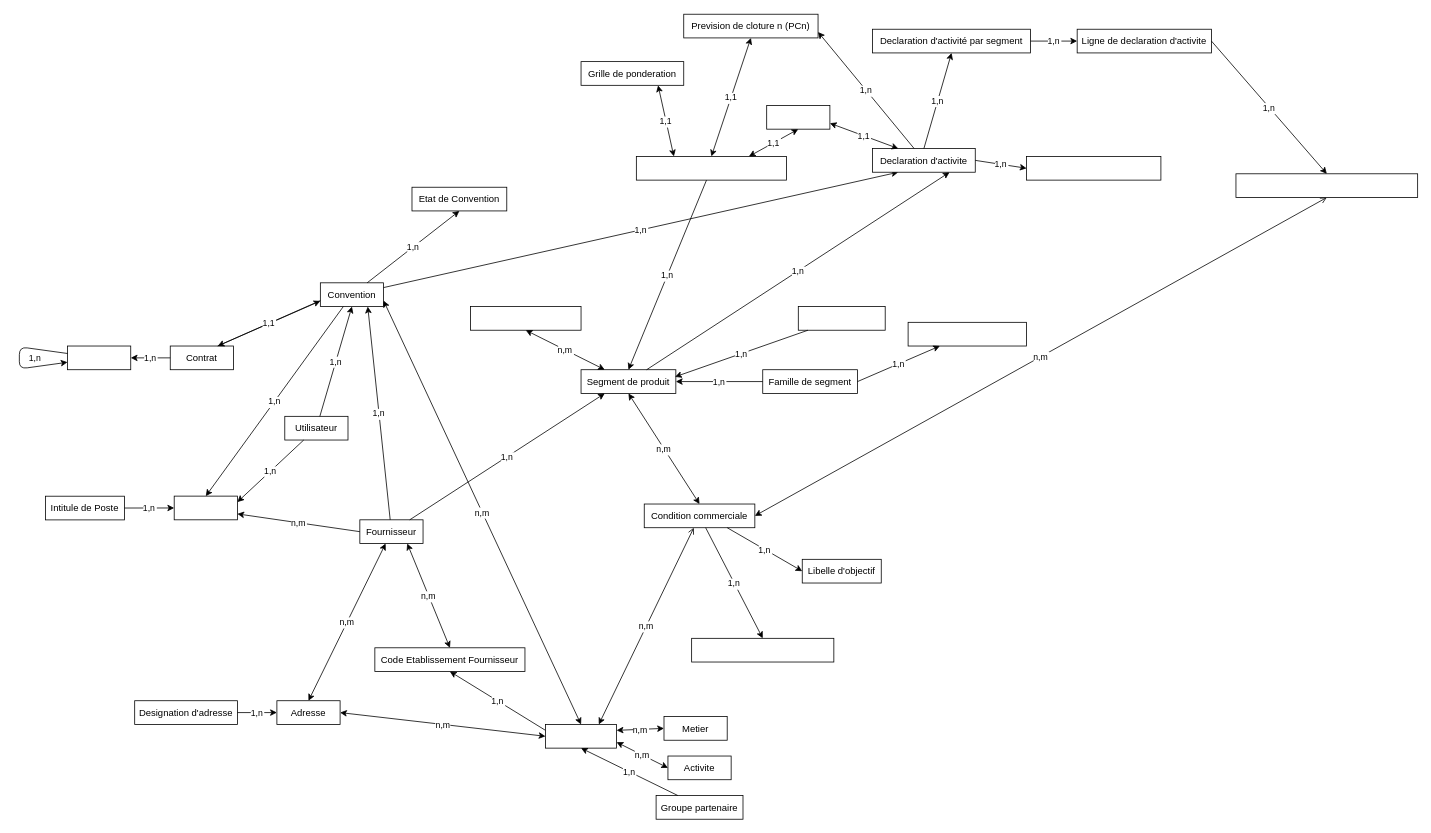
The diagram is 1431 pixels wide and 833 high, and some of its shapes have lost their labels. Each missing label, with the box of its shape:
CA N-1: (766, 105, 830, 129)
Contact: (173, 495, 237, 520)
Donnee d'activite(CA,Q,PdM) a declarer: (1235, 173, 1418, 198)
Etablissement: (545, 724, 617, 748)
Etat de Declaration d'activite: (1026, 156, 1161, 180)
Ligne de condition commerciale: (691, 638, 834, 662)
Paragraphe: (67, 345, 131, 370)
Prevision de cloture initiale PC0: (636, 156, 786, 180)
Sous-famille de segment: (907, 322, 1027, 346)
Synthese de l'offre: (798, 306, 885, 330)
Taux de TVA applicable: (470, 306, 581, 330)
